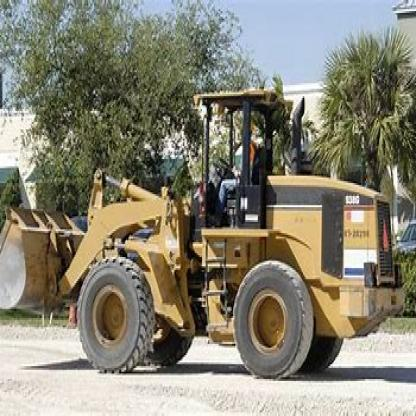bull_dozer/loader/grader: (0, 81, 415, 376)
